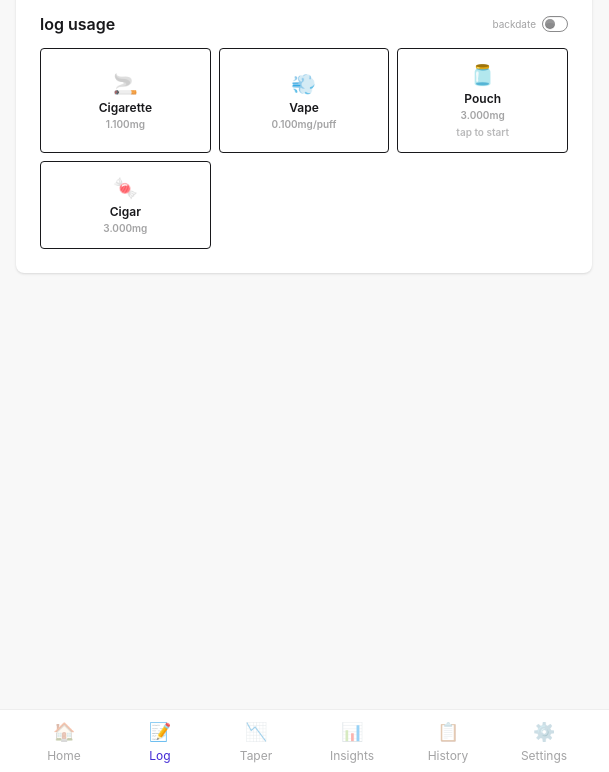
Test: pouch sessions › shows pause and done buttons after starting a pouch
Click the button "🫙 Pouch 3.000mg tap to start".
click(483, 100)  # box x1=397 y1=48 x2=568 y2=153
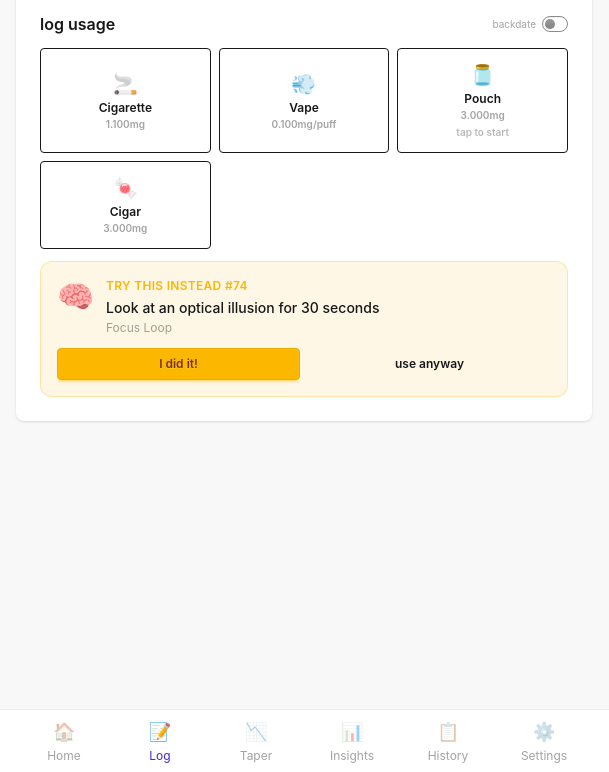
Click the button "use anyway".
click(430, 364)  # box x1=308 y1=348 x2=551 y2=380
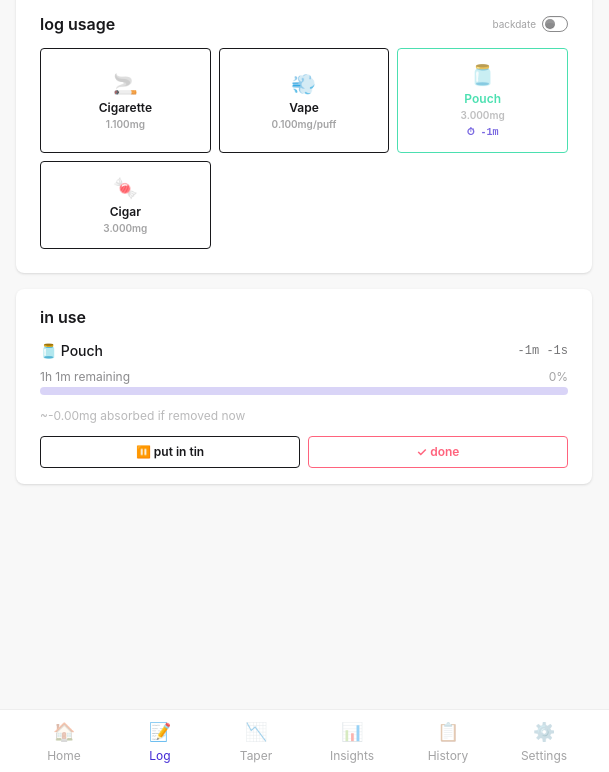
Check: the text "put in tin" is shown, box x1=40 y1=436 x2=300 y2=468
Check: the text "done" is shown, box x1=308 y1=436 x2=568 y2=468
